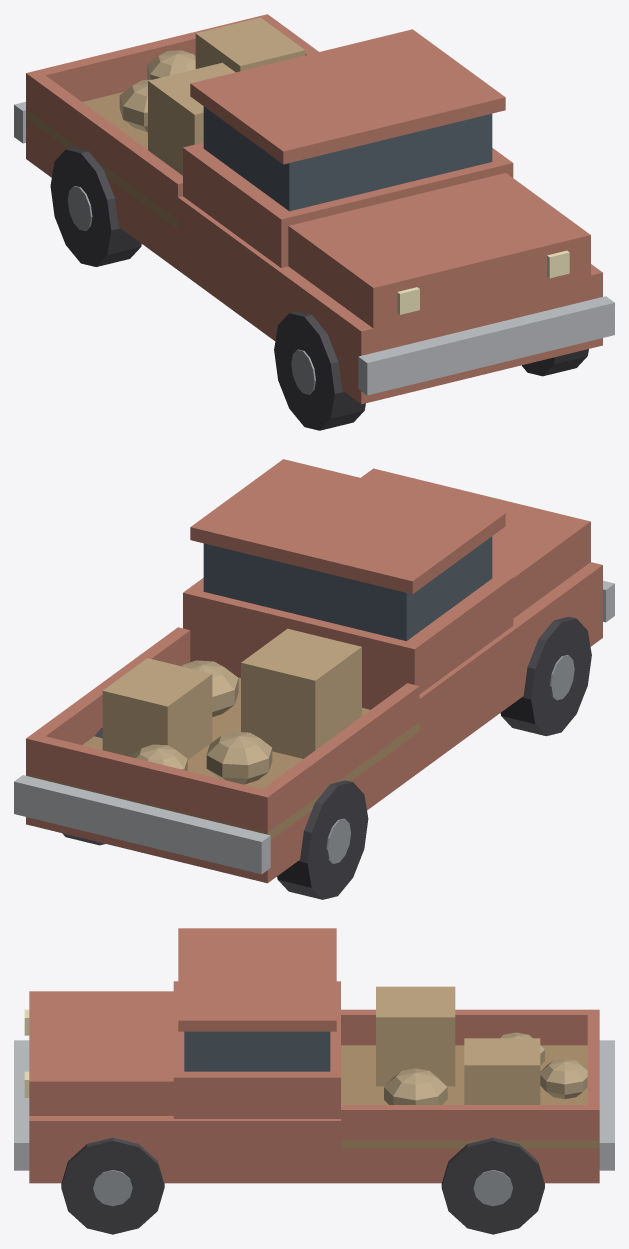
File: MerchantCar.fbx
The picture shows the model from 3 angles, top to bottom: view 1: azimuth 30°, elevation 25°; view 2: azimuth 150°, elevation 25°; view 3: azimuth 270°, elevation 25°; orthographic projection. The views are drawn at different scales.
Visible parts, largest first — view 1: Truck_Merchant, Truck_Cargo, Truck_Wheel_FL, Truck_Wheel_RL, Truck_Wheel_FR; view 2: Truck_Merchant, Truck_Cargo, Truck_Wheel_RL, Truck_Wheel_FL; view 3: Truck_Merchant, Truck_Cargo, Truck_Wheel_RR, Truck_Wheel_FR.
Part boxes in pixels (<box>): Truck_Merchant: <box>14,14,614,404</box>; Truck_Cargo: <box>119,17,305,175</box>; Truck_Wheel_FL: <box>274,311,365,430</box>; Truck_Wheel_RL: <box>50,147,141,266</box>; Truck_Wheel_FR: <box>522,349,588,376</box>; Truck_Merchant: <box>14,459,614,883</box>; Truck_Cargo: <box>102,628,361,784</box>; Truck_Wheel_RL: <box>277,780,368,899</box>; Truck_Wheel_FL: <box>500,616,591,736</box>; Truck_Merchant: <box>14,928,614,1183</box>; Truck_Cargo: <box>376,986,587,1104</box>; Truck_Wheel_RR: <box>441,1137,544,1234</box>; Truck_Wheel_FR: <box>61,1137,164,1234</box>.
Bounding box in the file's own units: 1.68 × 1.5 × 3.95.
